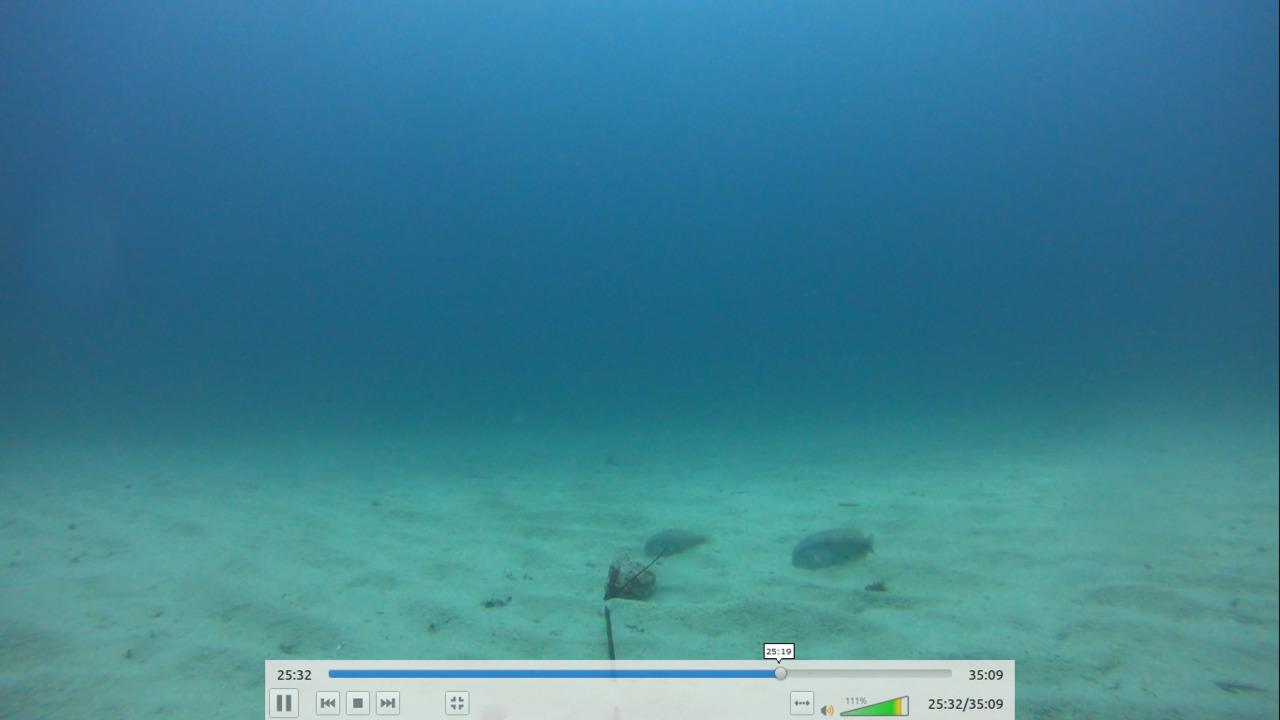raor: (789, 524, 878, 575), (637, 523, 717, 560)
